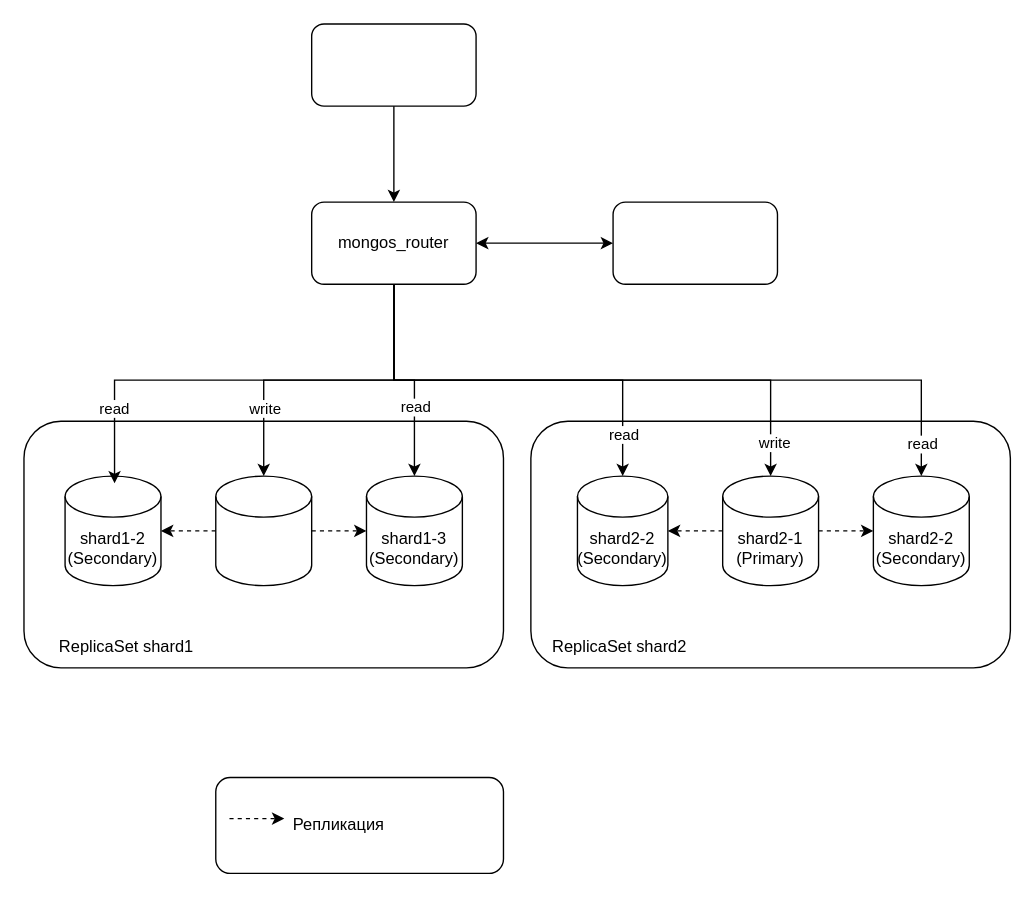
This 1034x897 diagram has some shape labels left out. Each missing label, with the centre of its shape:
configSrv: the point at 694,242
pymongo-api: the point at 393,64
shard1-1 (Primary): the point at 263,530
